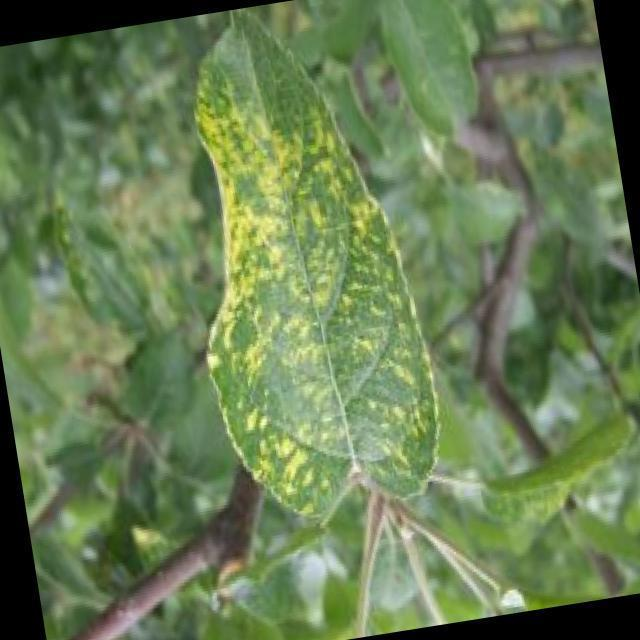Mosaic Virus: (181, 39, 444, 530)
